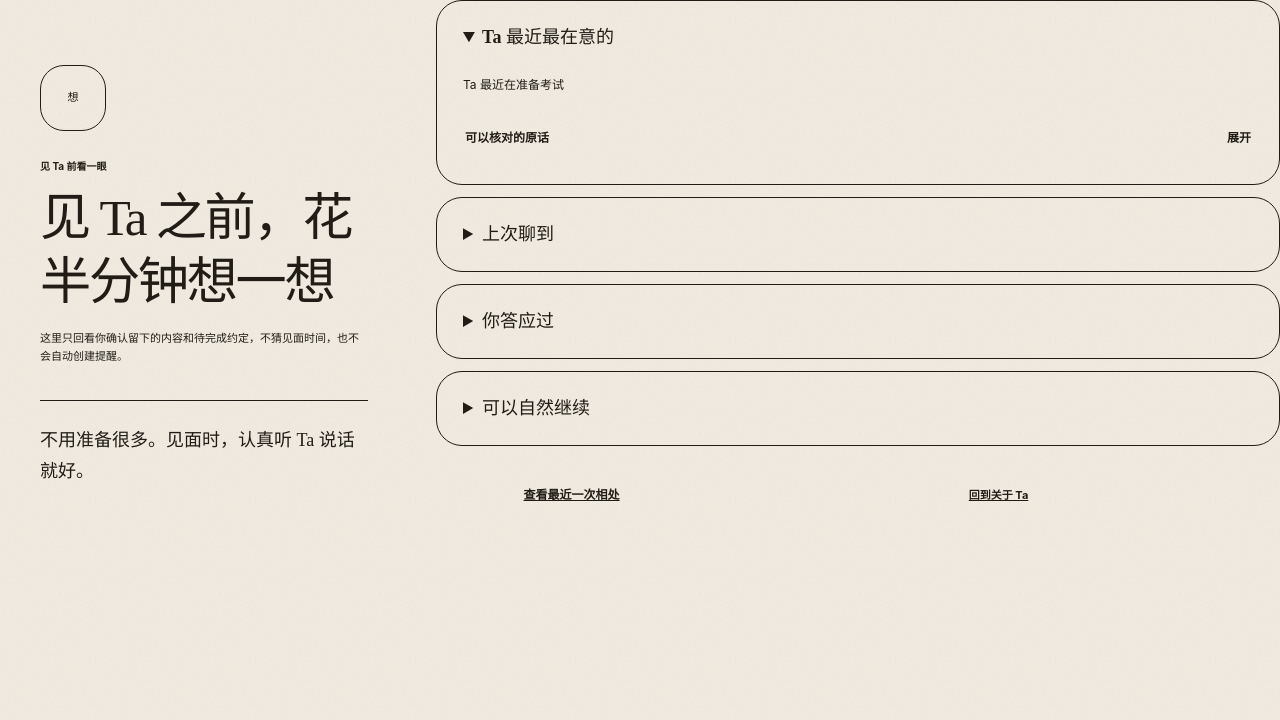
Scenario: CompanionPrepare › does not create a dead transcript action when only a saved evidence quote exists
This screenshot has width=1280, height=720.
Click the text "展开" at {"x": 1239, "y": 138}, box [1227, 129, 1251, 147]
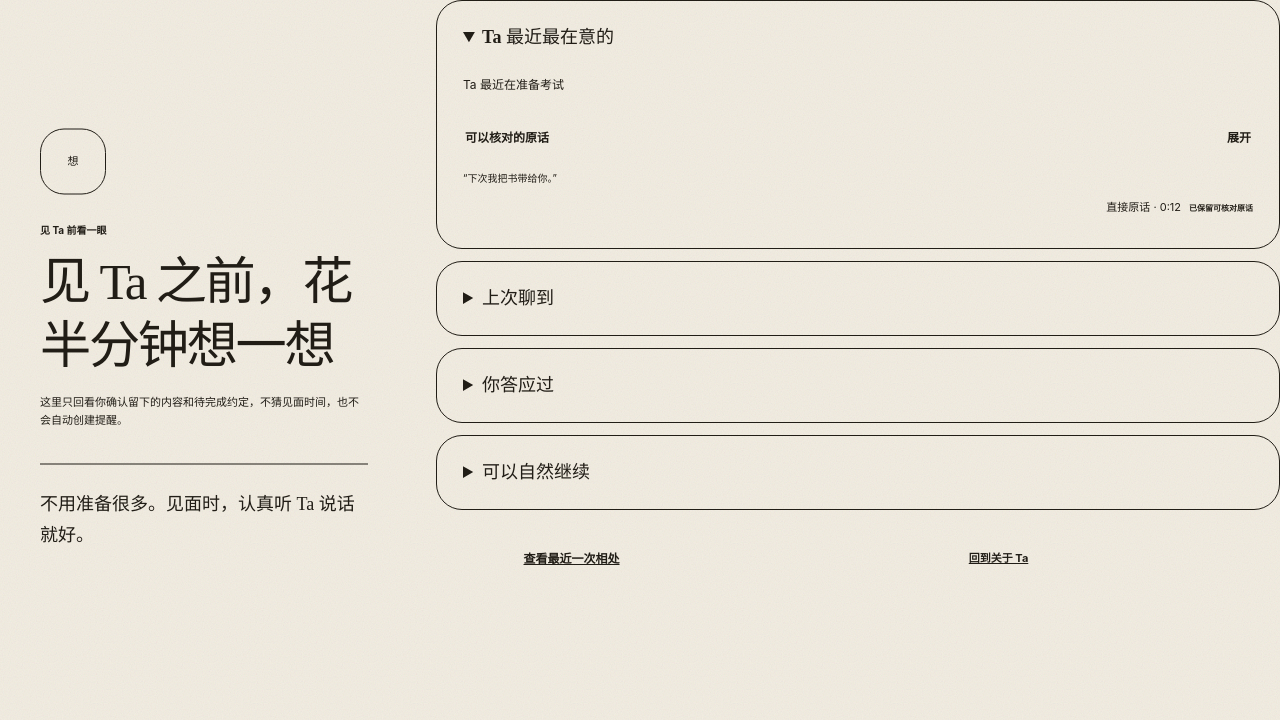
Check: the text "已保留可核对原话" is shown, box [1189, 202, 1253, 214]
